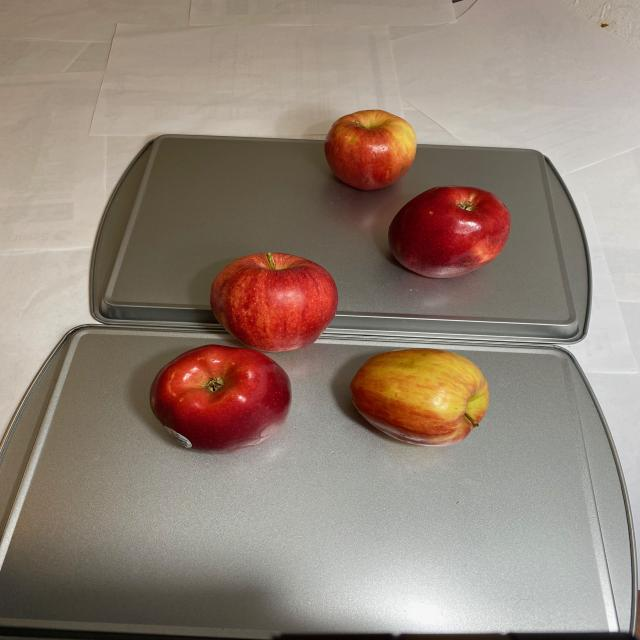apple: (148, 250, 492, 470), (322, 112, 512, 278)
